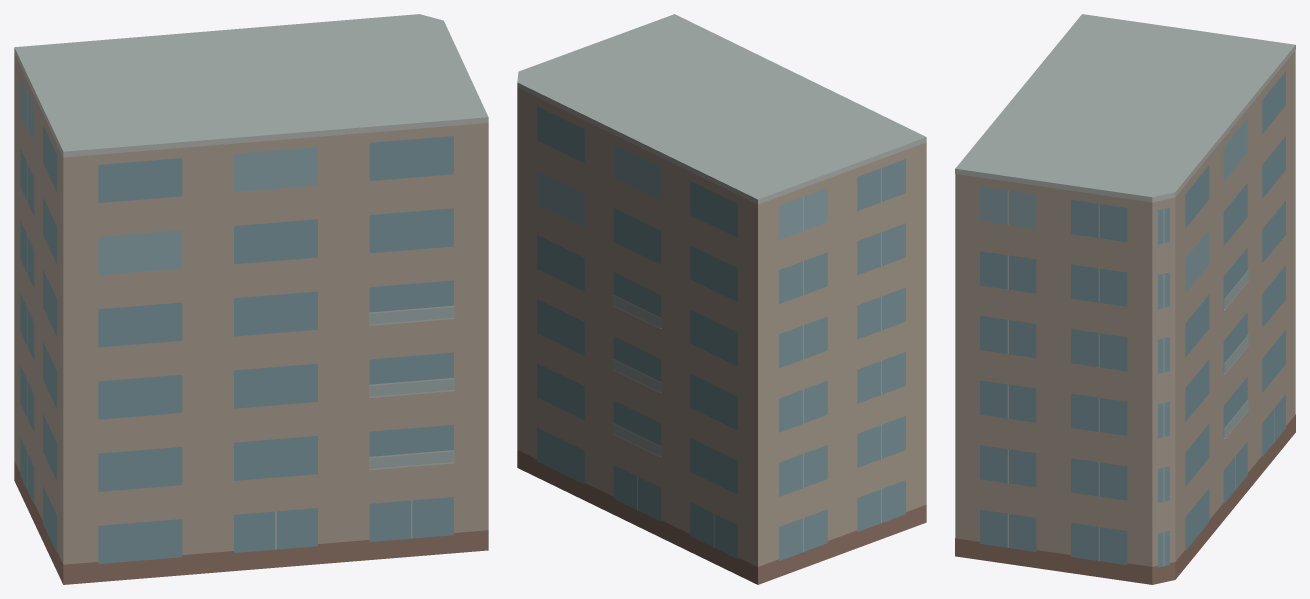
File: survey-upis-32957638.glb
3 renders of one model, left to right at view 1: azimuth 30°, elevation 25°; view 2: azimuth 150°, elevation 25°; view 3: azimuth 270°, elevation 25°, orthographic. The views are drawn at different scales.
Parts seen in each view (by area): view 1: survey-upis-32957638.tmp; view 2: survey-upis-32957638.tmp; view 3: survey-upis-32957638.tmp.
Boxes of the visible parts, x1=… form: survey-upis-32957638.tmp: x1=14, y1=14, x2=488, y2=584; survey-upis-32957638.tmp: x1=517, y1=14, x2=926, y2=584; survey-upis-32957638.tmp: x1=955, y1=14, x2=1295, y2=584.
Size of the model in its own units: 18.57 by 18.3 by 14.59.
